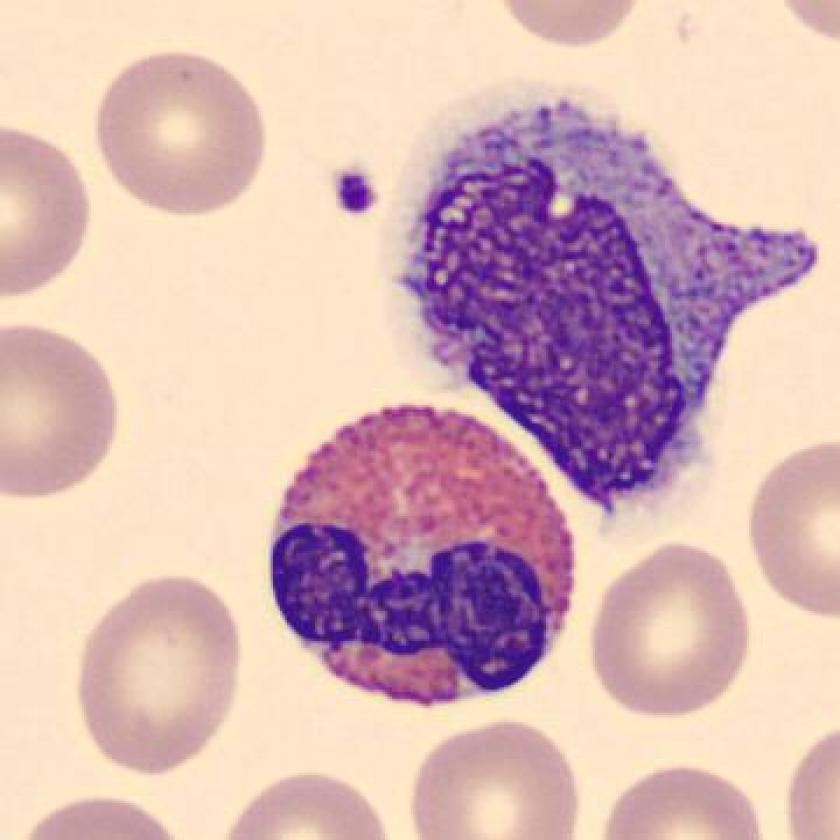eosinophil: (249, 390, 592, 723)
